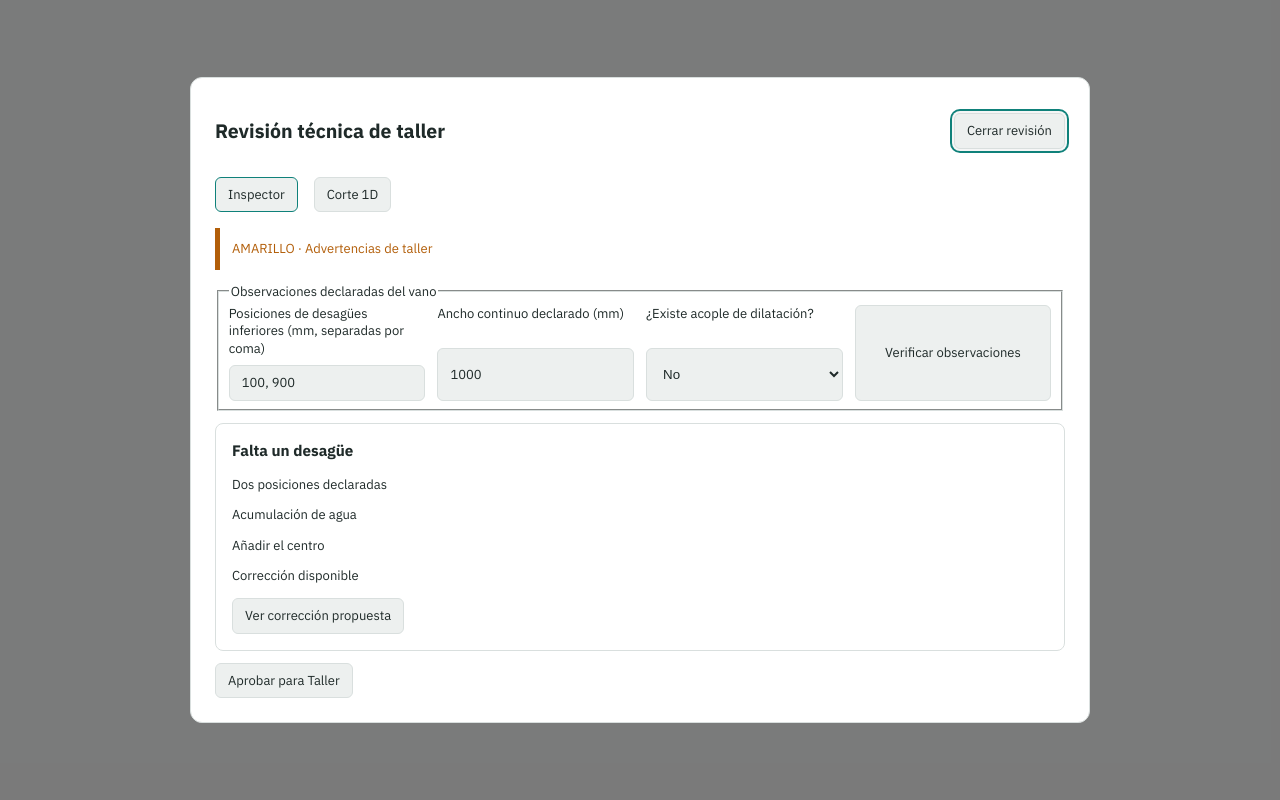
SHOT-07 transactional modal › rejects a response after the design changes and keeps approval disabled during requests
What coordinates should you click on to do the following:
click the button "Ver corrección propuesta"
I would click on:
 (318, 616)
Its box is [232,598,404,634].
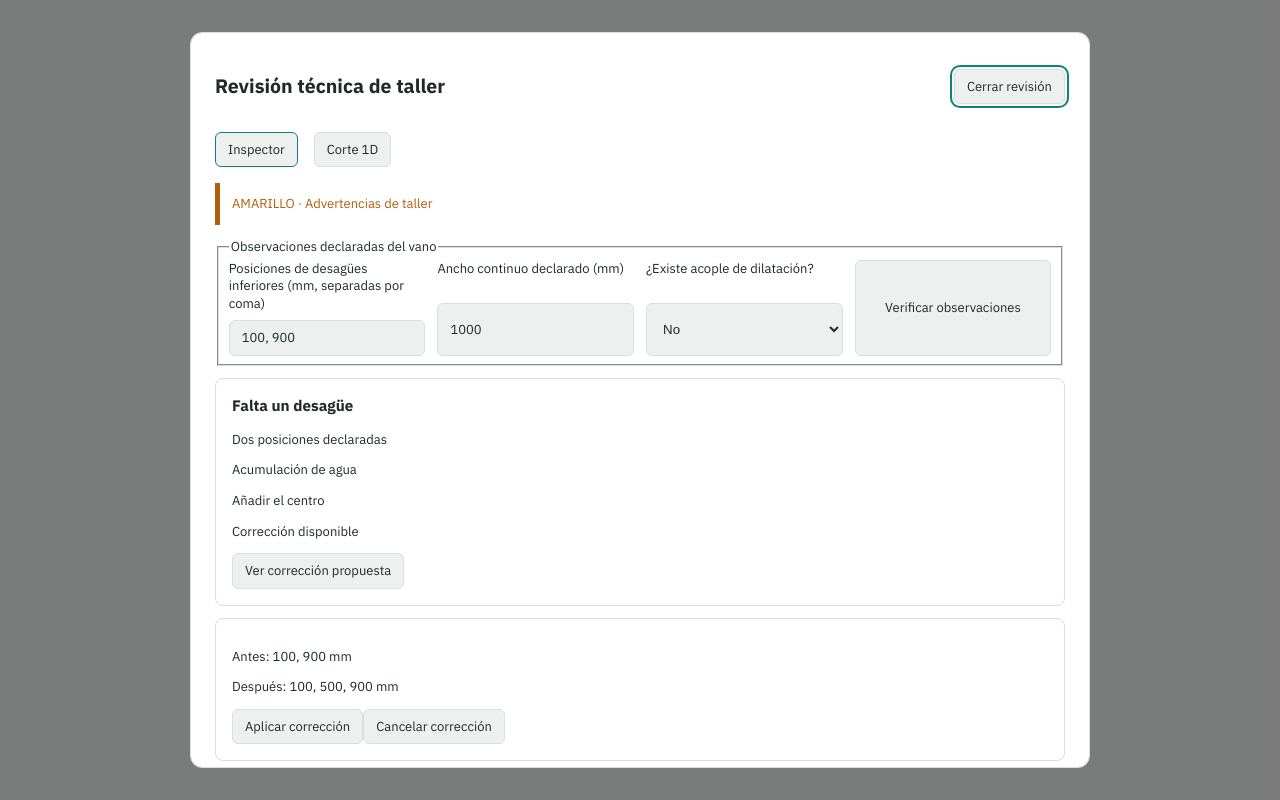
Expected: the text "Antes: 100, 900 mm" is shown, [232,648,352,665]
Expected: the text "Después: 100, 500, 900 mm" is shown, [232,678,399,695]
What coordinates should you click on to do the following:
click the button "Aplicar corrección"
I would click on:
 (298, 726)
Its box is [232,709,363,744].
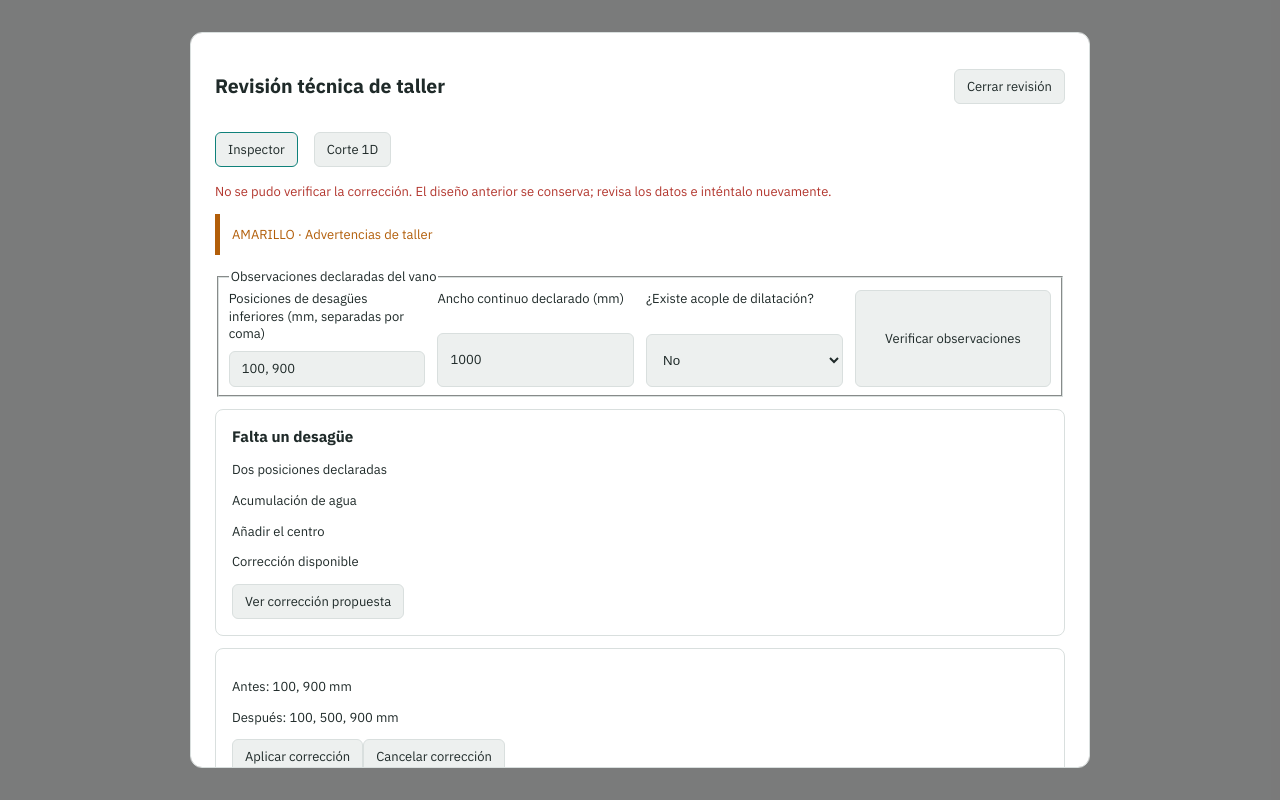
Expected: the 1st message is shown, [215,183,832,200]
